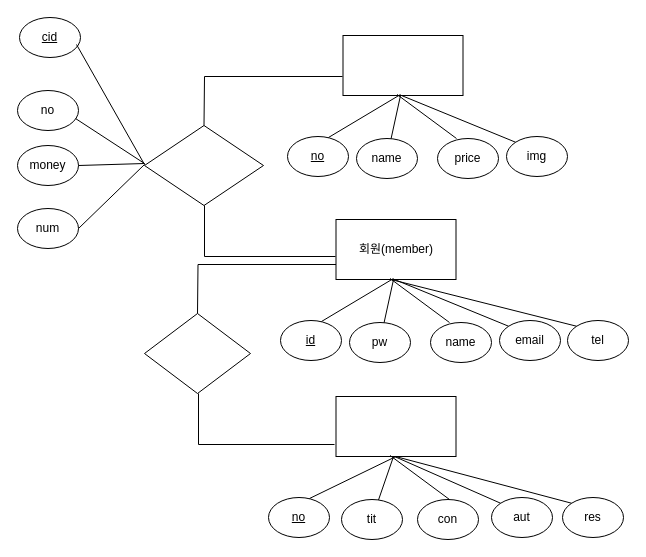
The diagram is 646 pixels wide and 557 high, and some of its shapes have lost their labels. Here are the shapes that lost their labels. From the top down, the centre of each, then its label:
At [402,65]: "상품".
At [204,165]: "구매".
At [197,353]: "글쓰기".
At [395,426]: "게시판(board)".
